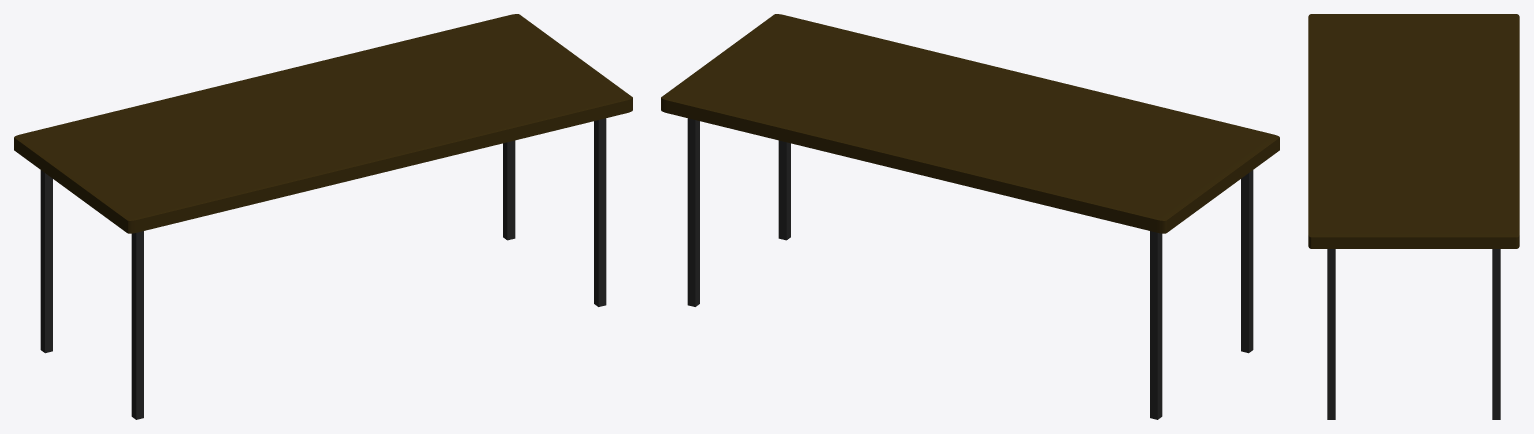
Rendered from Table.fbx.
3 renders of one model, left to right at view 1: azimuth 30°, elevation 25°; view 2: azimuth 150°, elevation 25°; view 3: azimuth 270°, elevation 25°, orthographic. The views are drawn at different scales.
Parts seen in each view (by area): view 1: Table, Cube.005, Cube.006, Cube.007, Cube.008; view 2: Table, Cube.007, Cube.008, Cube.005, Cube.006; view 3: Table, Cube.006, Cube.008.
Part boxes in pixels (x1=…): Table: x1=14, y1=14, x2=632, y2=233; Cube.005: x1=131, y1=231, x2=143, y2=419; Cube.006: x1=594, y1=118, x2=606, y2=306; Cube.007: x1=40, y1=170, x2=52, y2=353; Cube.008: x1=503, y1=140, x2=515, y2=240; Table: x1=661, y1=14, x2=1279, y2=233; Cube.007: x1=1150, y1=231, x2=1162, y2=419; Cube.008: x1=687, y1=118, x2=699, y2=306; Cube.005: x1=1241, y1=170, x2=1253, y2=353; Cube.006: x1=778, y1=140, x2=790, y2=240; Table: x1=1308, y1=14, x2=1519, y2=248; Cube.006: x1=1327, y1=249, x2=1335, y2=419; Cube.008: x1=1492, y1=249, x2=1500, y2=419.
Bounding box in the file's own units: 4482 × 1783 × 1793.
